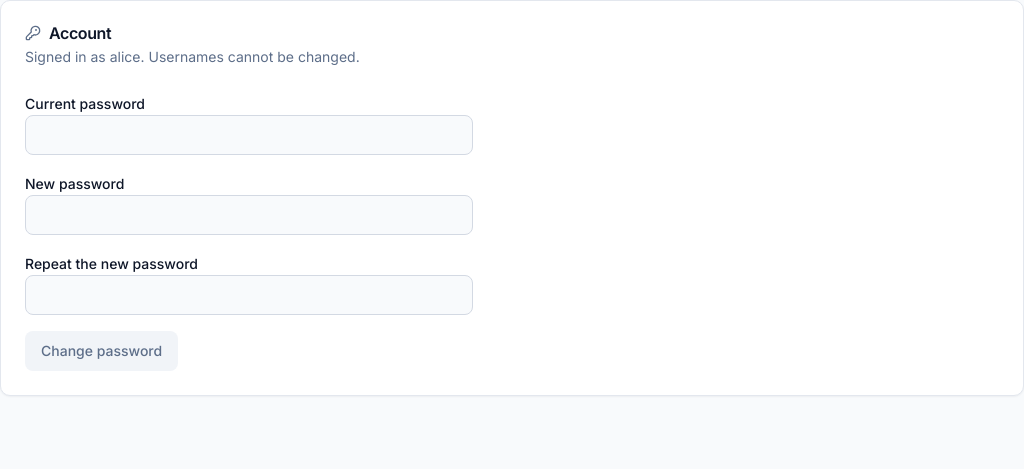
Test: ChangePasswordCard › changes it, and says other sessions were signed out
Type "old-password" into the password field labelled "Current password". click: [249, 135]
box: [25,115,473,155]
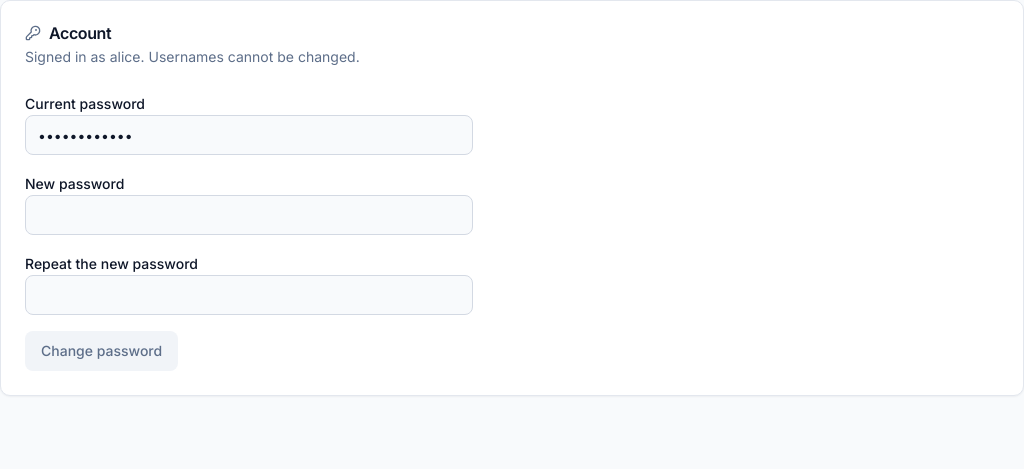
Type "new-password" into the password field labelled "New password". click: [249, 215]
box: [25,195,473,235]
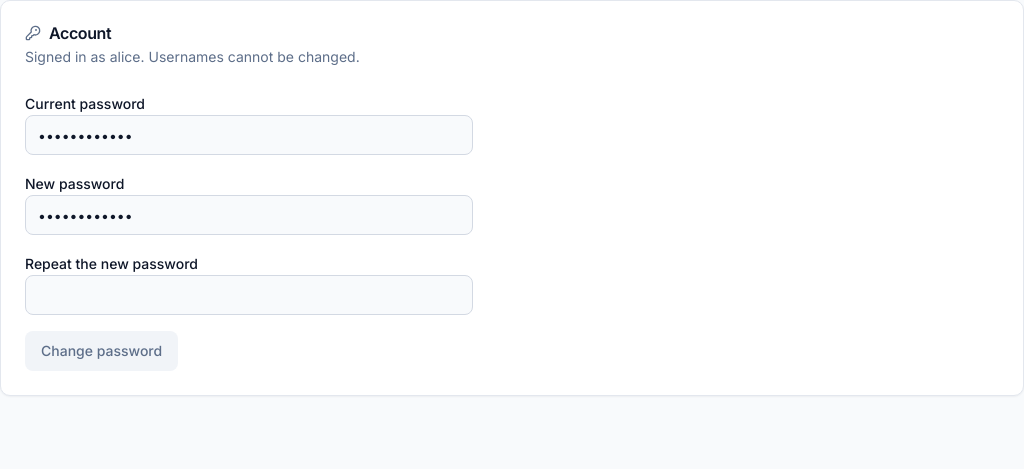
Type "new-password" into the password field labelled "Repeat the new password". click: [249, 295]
box: [25,275,473,315]
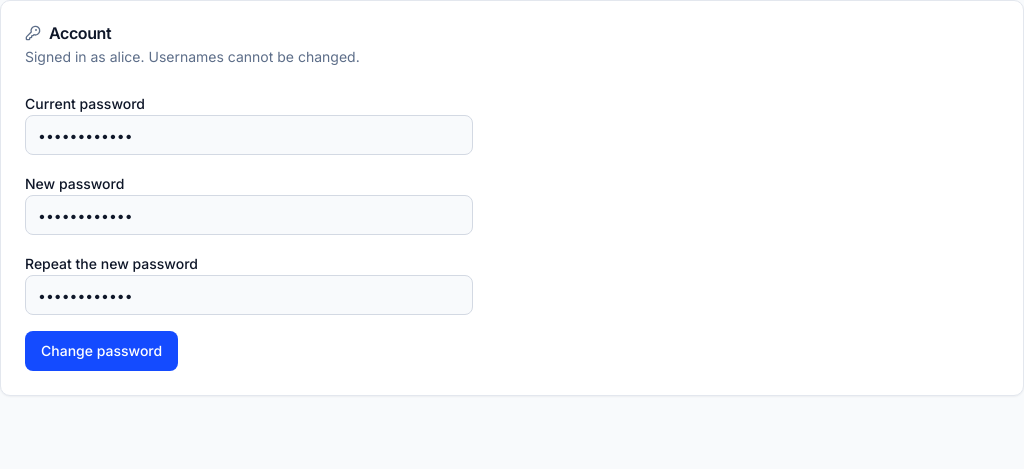
Click the button "Change password". click: [102, 351]
box: [25,331,178,371]
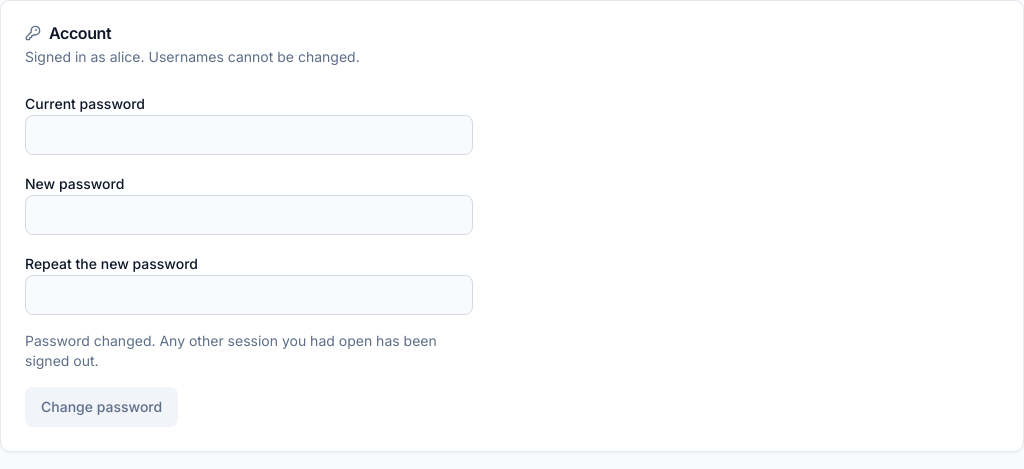
expect the text "Password changed. Any other session you had open has been signed out." is shown: met, box [25,331,473,371]
